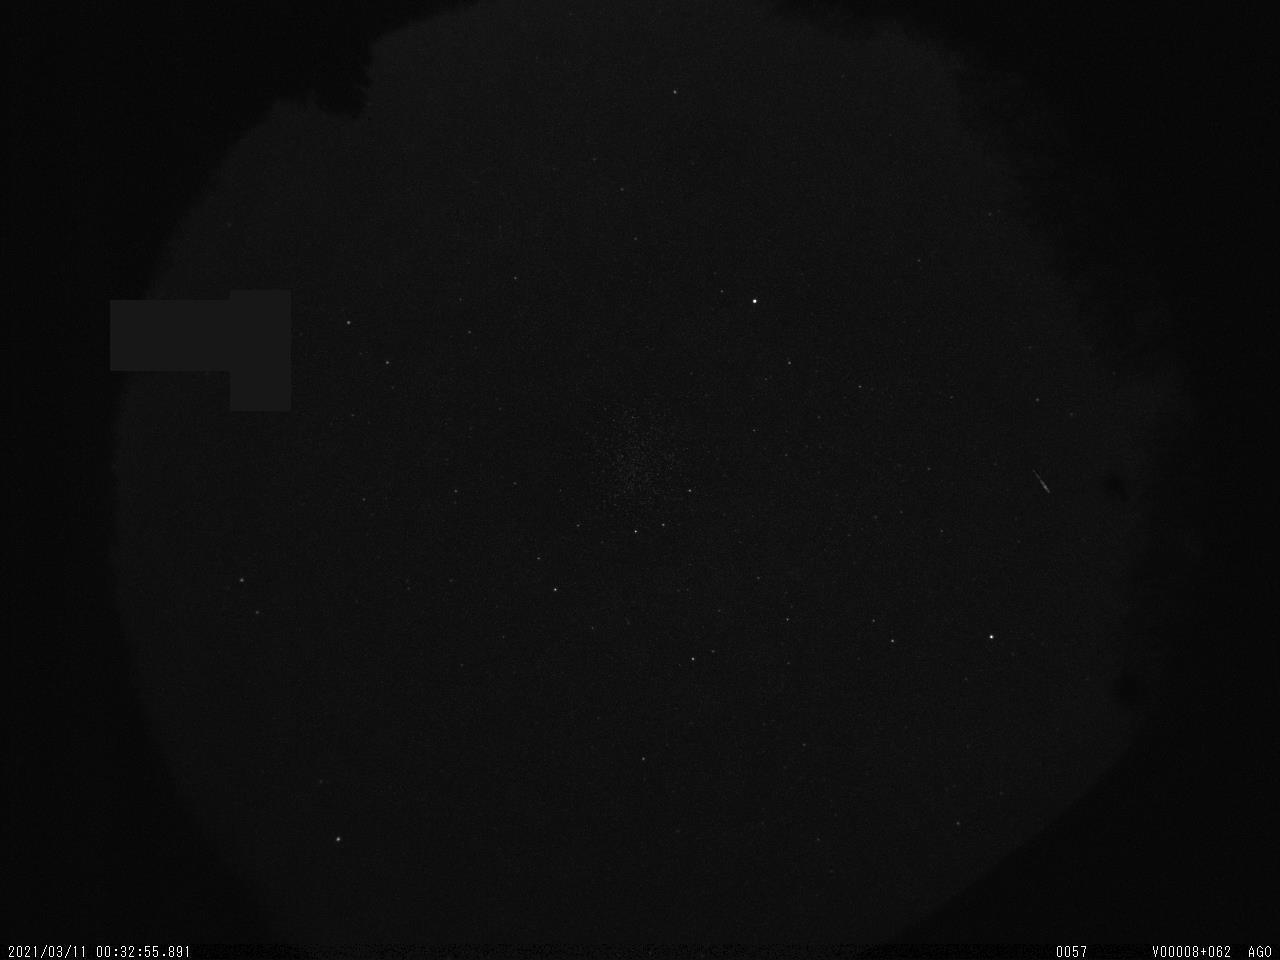meteor: (1025, 465, 1056, 502)
